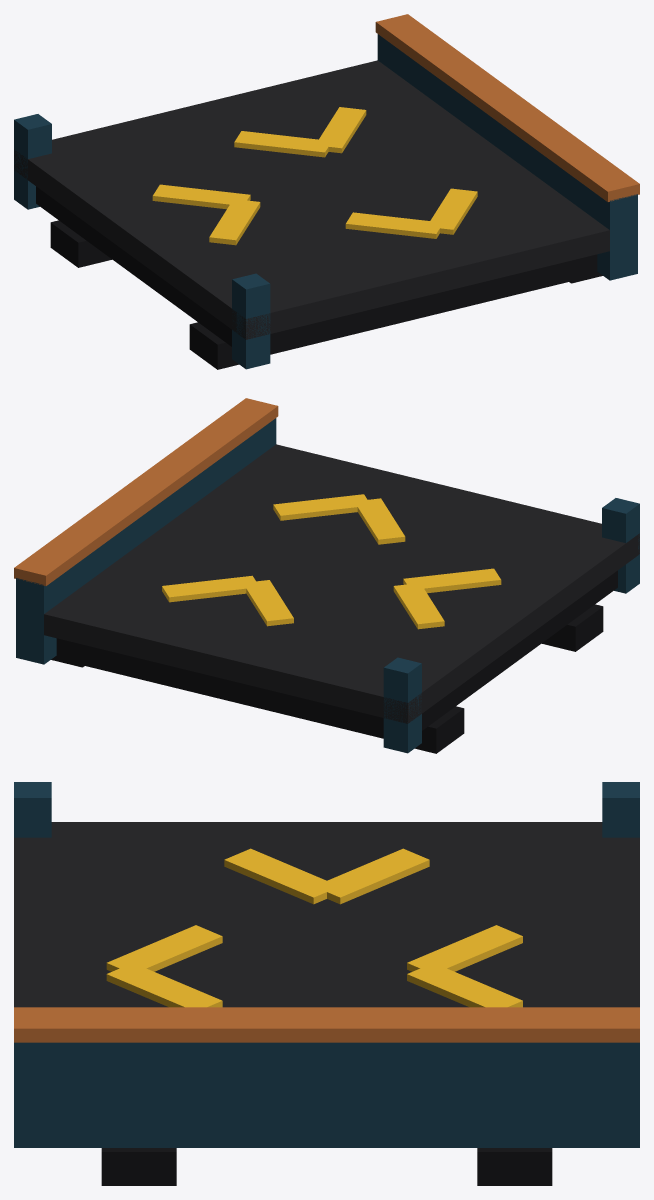
File: belt_tee_r.obj
The picture shows the model from 3 angles, top to bottom: view 1: azimuth 30°, elevation 25°; view 2: azimuth 150°, elevation 25°; view 3: azimuth 270°, elevation 25°; orthographic projection. The views are drawn at different scales.
Parts seen in each view (by area): view 1: Belt, Frame, Arrows; view 2: Belt, Frame, Arrows; view 3: Belt, Frame, Arrows.
Boxes of the visible parts, x1,y1,x2,y2 form: Belt: [14, 60, 609, 354]; Frame: [14, 14, 639, 369]; Arrows: [152, 107, 477, 245]; Belt: [44, 444, 639, 738]; Frame: [14, 398, 639, 753]; Arrows: [162, 494, 501, 629]; Belt: [14, 822, 639, 1007]; Frame: [14, 782, 639, 1185]; Arrows: [106, 848, 522, 1007].
Bounding box in the file's own units: 0.99 × 0.2725 × 1.
